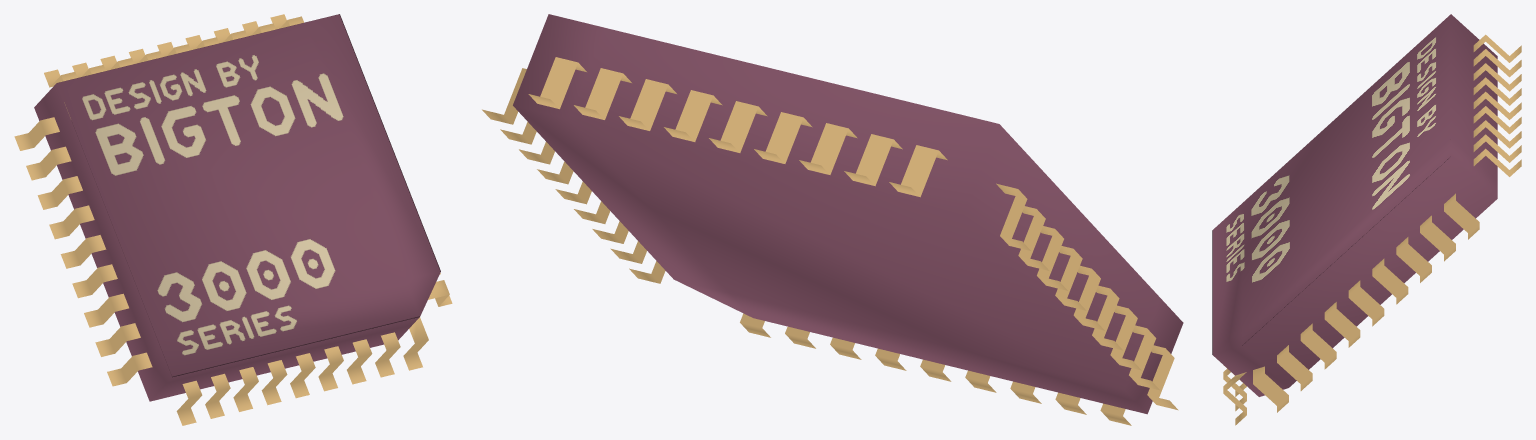
File: bigton_3000.glb
The picture shows the model from 3 angles, left to right: view 1: azimuth 30°, elevation 25°; view 2: azimuth 150°, elevation 25°; view 3: azimuth 270°, elevation 25°; orthographic projection. The views are drawn at different scales.
Parts seen in each view (by area): view 1: bigton; view 2: bigton; view 3: bigton.
Part boxes in pixels (x1,y1,x2,y2): bigton: (14,14,452,425); bigton: (482,14,1183,425); bigton: (1212,14,1521,425).
Size of the model in its own units: 0.9834 by 0.7506 by 0.7506.
1 material, 1 textured.
